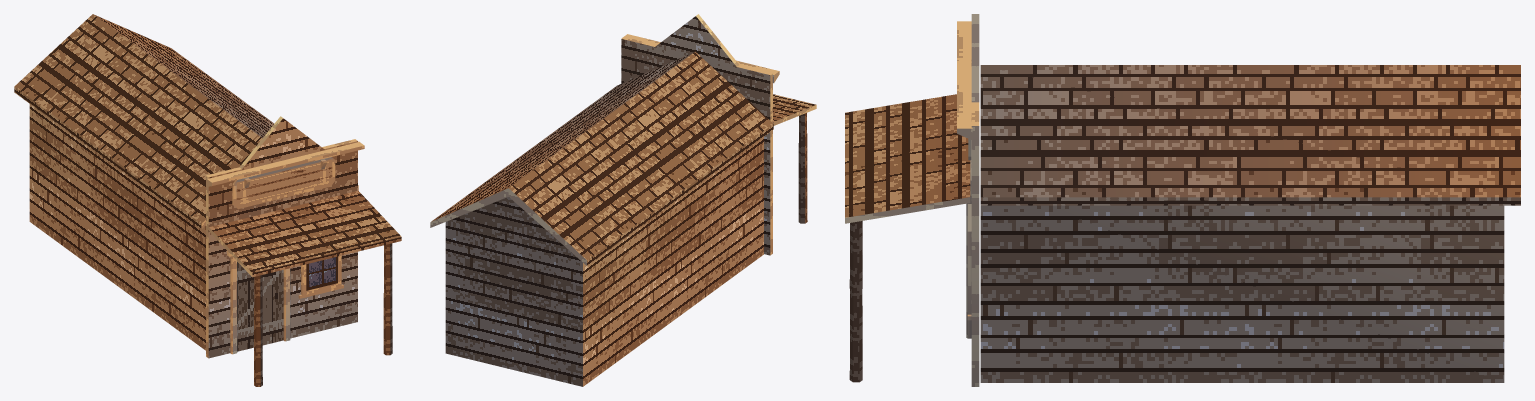
Rendered from wtown.sheriff__office.glb.
The picture shows the model from 3 angles, left to right: view 1: azimuth 30°, elevation 25°; view 2: azimuth 150°, elevation 25°; view 3: azimuth 270°, elevation 25°; orthographic projection. The views are drawn at different scales.
Visible parts, largest first — view 1: kit_roof, kit_body, kit_front, kit_porch, kit_card_panes, kit_trim, kit_windows; view 2: kit_body, kit_roof, kit_front, kit_porch, kit_trim; view 3: kit_body, kit_roof, kit_porch, kit_front, kit_trim, kit_windows.
Part boxes in pixels (left/top/right/bottom): kit_roof: left=14, top=14, right=358, bottom=229; kit_body: left=29, top=104, right=205, bottom=350; kit_front: left=206, top=116, right=357, bottom=358; kit_porch: left=209, top=190, right=401, bottom=386; kit_card_panes: left=236, top=159, right=337, bottom=351; kit_trim: left=206, top=141, right=364, bottom=354; kit_windows: left=298, top=255, right=343, bottom=298; kit_body: left=445, top=137, right=763, bottom=386; kit_roof: left=430, top=51, right=773, bottom=265; kit_front: left=621, top=14, right=772, bottom=255; kit_porch: left=773, top=94, right=816, bottom=223; kit_trim: left=622, top=34, right=779, bottom=83; kit_body: left=980, top=205, right=1504, bottom=382; kit_roof: left=980, top=65, right=1520, bottom=205; kit_porch: left=845, top=94, right=970, bottom=382; kit_front: left=971, top=14, right=979, bottom=386; kit_trim: left=957, top=21, right=972, bottom=338; kit_windows: left=967, top=204, right=971, bottom=320.
Bounding box in the file's own units: 4 × 5.4 × 10.32.
7 materials, 7 textured.
